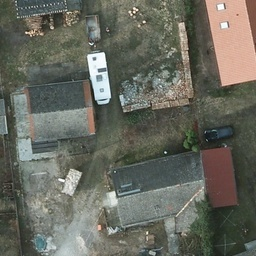car: (204, 125, 234, 142)
